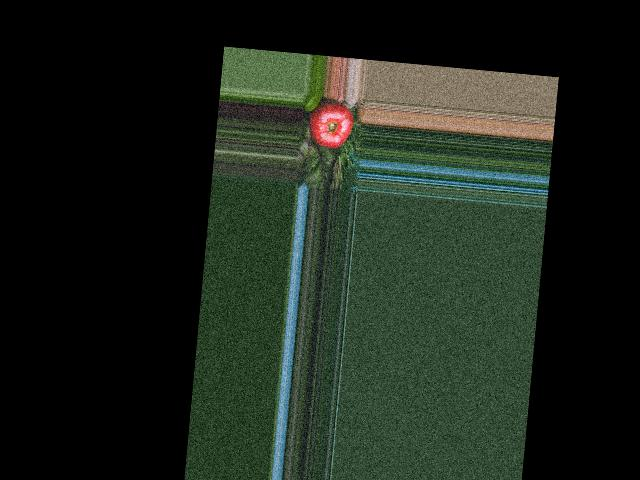tomato: (305, 97, 355, 149)
